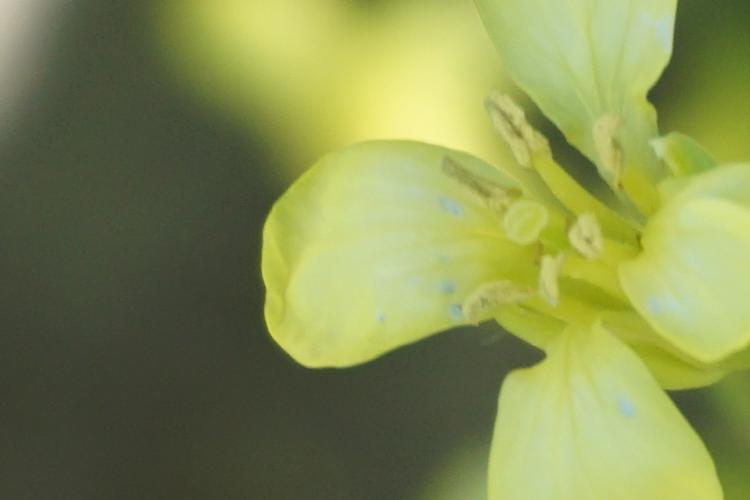yellow: (250, 1, 749, 500)
